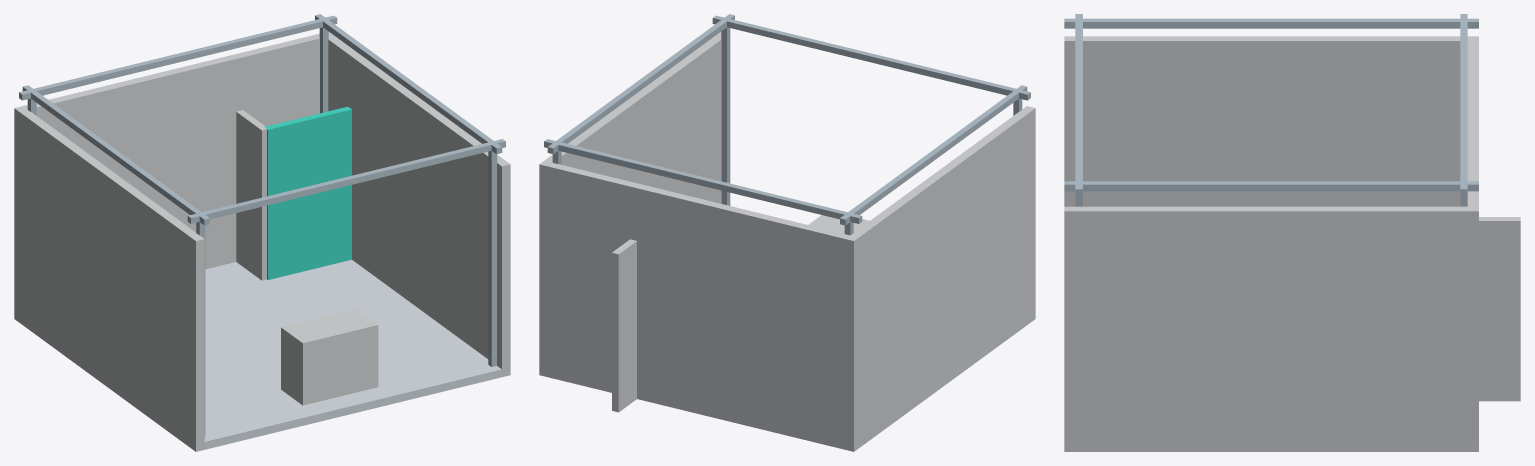
The picture shows the model from 3 angles, left to right: view 1: azimuth 30°, elevation 25°; view 2: azimuth 150°, elevation 25°; view 3: azimuth 270°, elevation 25°; orthographic projection. The views are drawn at different scales.
Visible parts, largest first — view 1: Exhibition Booth Concept; view 2: Exhibition Booth Concept; view 3: Exhibition Booth Concept.
Part boxes in pixels (bbox=[...]): Exhibition Booth Concept: bbox=[14, 14, 510, 451]; Exhibition Booth Concept: bbox=[539, 14, 1035, 451]; Exhibition Booth Concept: bbox=[1064, 14, 1520, 451].
Size of the model in its own units: 5 by 3.49 by 5.51.
